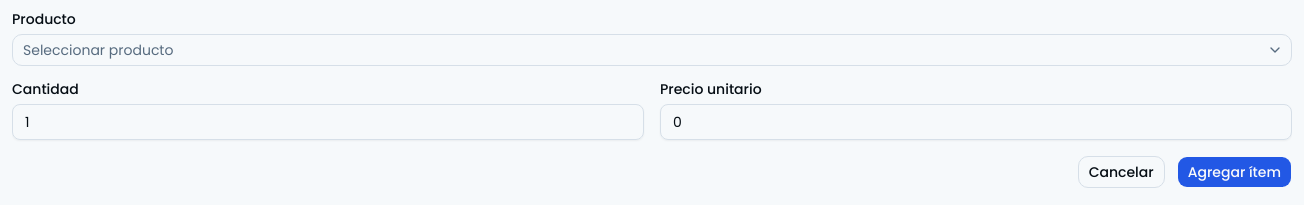
Test: ItemForm — render › después de cargar, muestra opciones de producto en el select
The image size is (1304, 205).
Click the dropdown at (98, 50), box [12,34,1292,66]
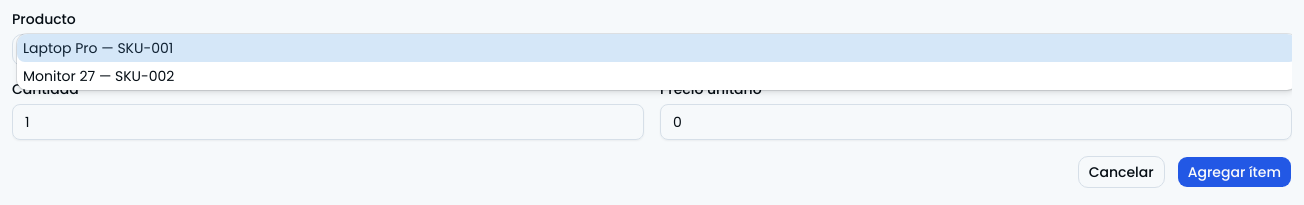
Expected: the text "Laptop Pro — SKU-001" is shown, [23,38,173,58]
Expected: the text "Monitor 27 — SKU-002" is shown, [23,66,174,86]
